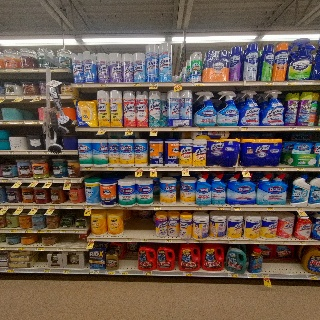All PRICE TAGS: (247, 273, 257, 278), (300, 81, 312, 85), (284, 81, 296, 85), (306, 275, 317, 279), (227, 273, 238, 277), (193, 82, 204, 86), (4, 268, 14, 272), (35, 247, 45, 251), (7, 229, 17, 233), (0, 120, 10, 124), (105, 270, 115, 274), (118, 271, 128, 275), (265, 81, 274, 85), (90, 270, 99, 274), (143, 271, 152, 275), (183, 272, 192, 276), (281, 241, 289, 245), (234, 207, 242, 211), (267, 207, 275, 211), (278, 167, 286, 171), (297, 167, 305, 171), (241, 127, 249, 131), (99, 83, 107, 87), (76, 83, 84, 87), (133, 82, 141, 86), (150, 82, 158, 86), (150, 127, 158, 131), (171, 127, 179, 131), (198, 127, 206, 131), (150, 167, 158, 171), (181, 167, 189, 171), (203, 167, 211, 171), (34, 230, 44, 233), (22, 230, 32, 233), (254, 240, 261, 244), (262, 274, 269, 278), (229, 240, 236, 244), (296, 207, 303, 211), (241, 167, 248, 171), (196, 206, 203, 210), (154, 206, 161, 210), (62, 269, 69, 273), (32, 205, 39, 209), (66, 205, 73, 209), (49, 205, 56, 209), (64, 179, 71, 183), (32, 120, 39, 124), (36, 95, 43, 99), (13, 68, 20, 72), (32, 68, 39, 72), (15, 247, 24, 250), (299, 241, 305, 245), (311, 127, 319, 130), (57, 247, 63, 251), (71, 247, 77, 251), (33, 179, 39, 183), (173, 83, 181, 86), (126, 128, 134, 131), (107, 167, 115, 170), (136, 167, 142, 171), (99, 128, 107, 131), (290, 127, 297, 130), (217, 207, 224, 210), (2, 205, 9, 208), (1, 179, 8, 182), (8, 151, 15, 154), (42, 151, 49, 154), (26, 151, 33, 154), (17, 121, 24, 124), (17, 96, 24, 99), (84, 206, 91, 209), (165, 240, 172, 243), (44, 269, 49, 273), (88, 238, 94, 241), (126, 238, 132, 241), (141, 239, 147, 242), (194, 240, 200, 243), (74, 230, 80, 233), (60, 230, 66, 233), (46, 230, 52, 233), (18, 205, 24, 208), (47, 179, 53, 182), (0, 96, 6, 99), (0, 69, 6, 72), (0, 247, 5, 250), (17, 179, 22, 182), (52, 68, 55, 72)
